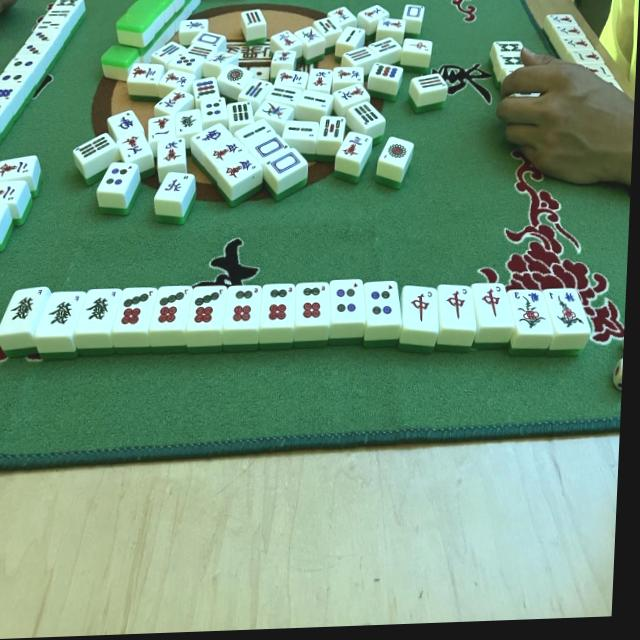1F: (547, 287, 586, 332)
3F: (509, 288, 548, 333)
4D: (332, 278, 362, 319), (368, 281, 398, 322)
6D: (264, 284, 294, 326), (230, 285, 259, 328), (298, 282, 327, 323)
7D: (191, 286, 225, 329), (155, 287, 188, 331), (120, 290, 153, 327)
GD: (46, 292, 81, 336), (9, 287, 43, 332), (83, 289, 118, 331)
RD: (443, 287, 470, 326), (409, 288, 435, 327), (481, 284, 504, 323)
